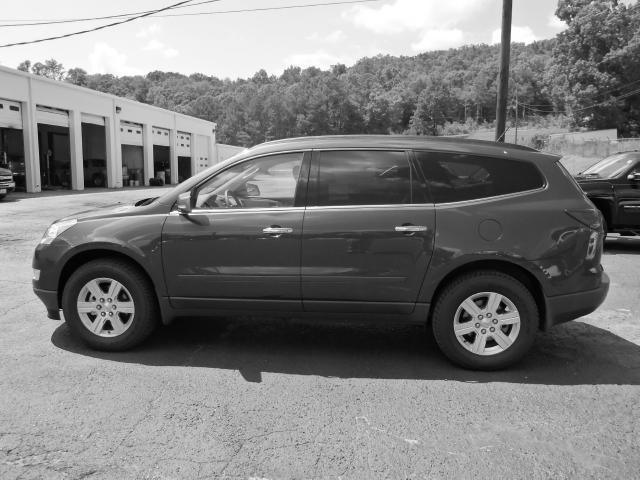car: (26, 129, 617, 378)
